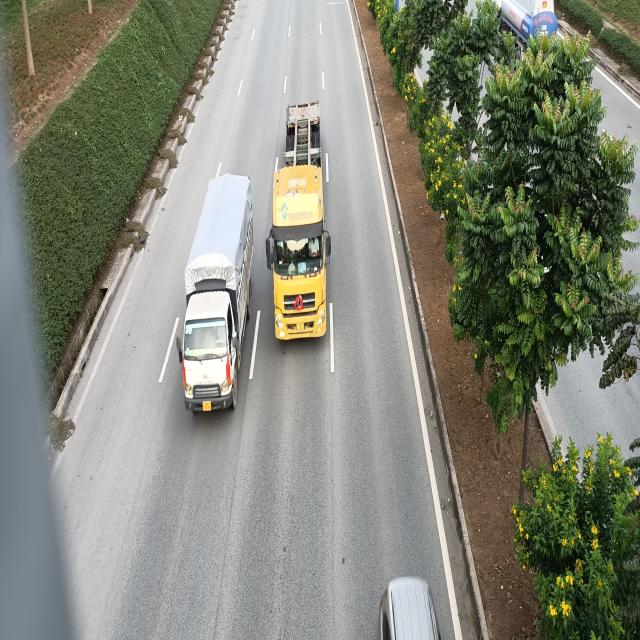car: (377, 576, 454, 640)
container: (264, 98, 331, 344)
truck: (180, 172, 258, 414)
